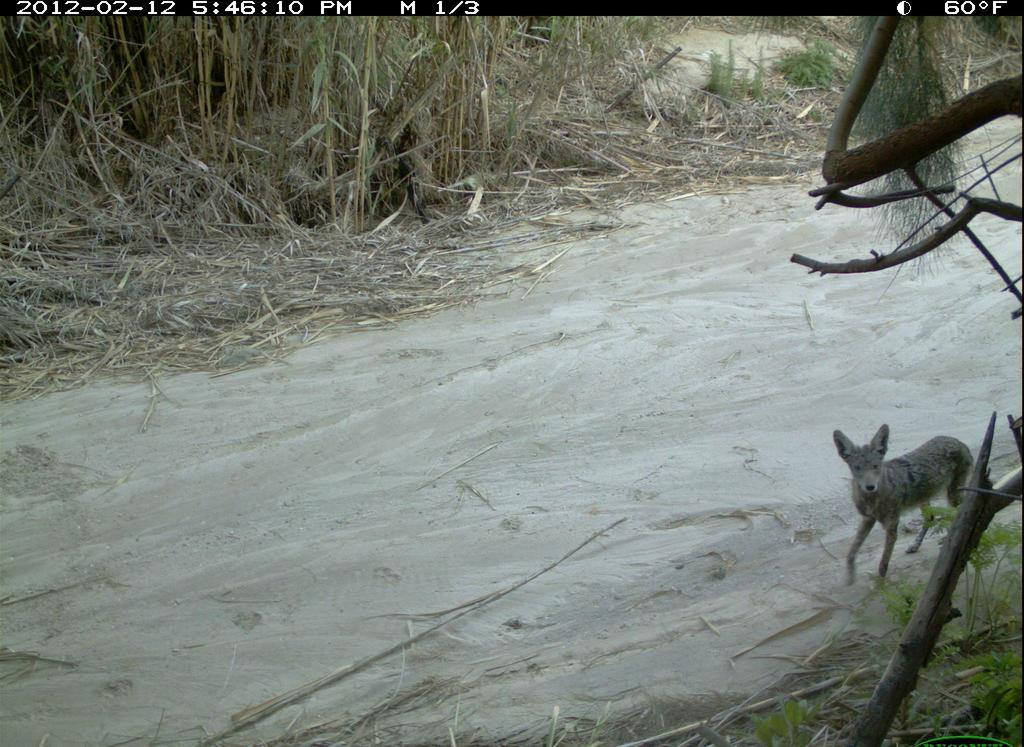coyote: (822, 400, 980, 593)
